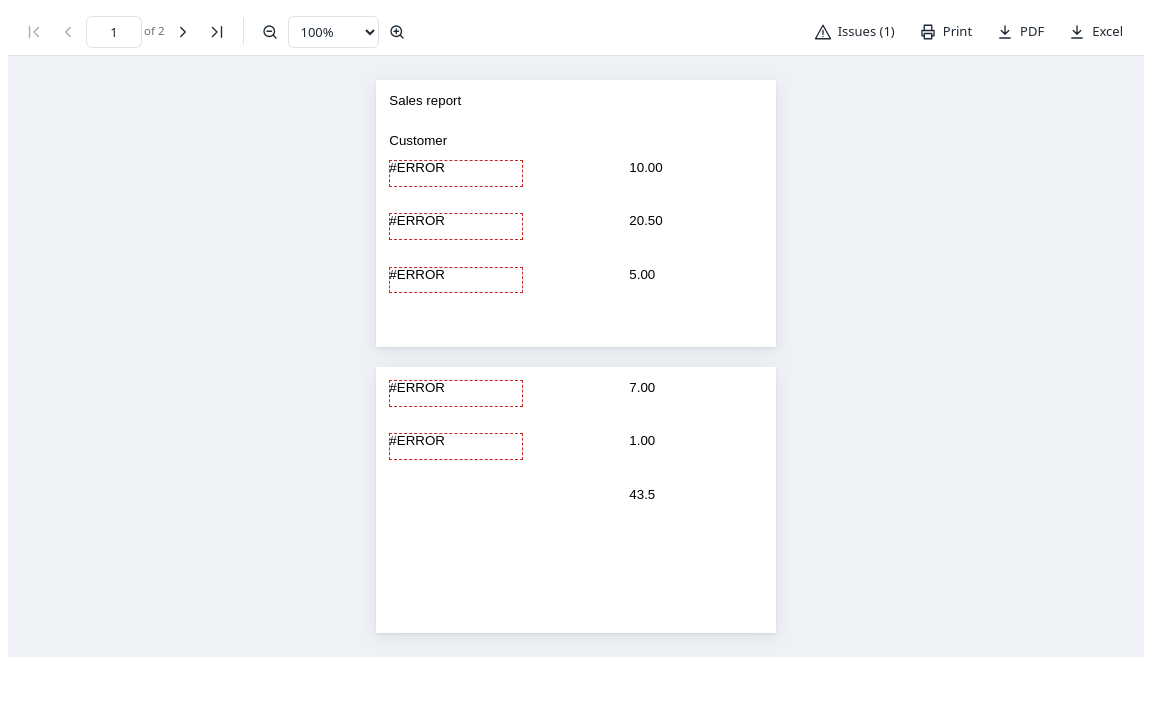
Test case: ReportViewer › lists issues in the issues panel
This screenshot has width=1152, height=720.
Click the button "Issues (1)". click: (854, 32)
box: [803,16,906,48]
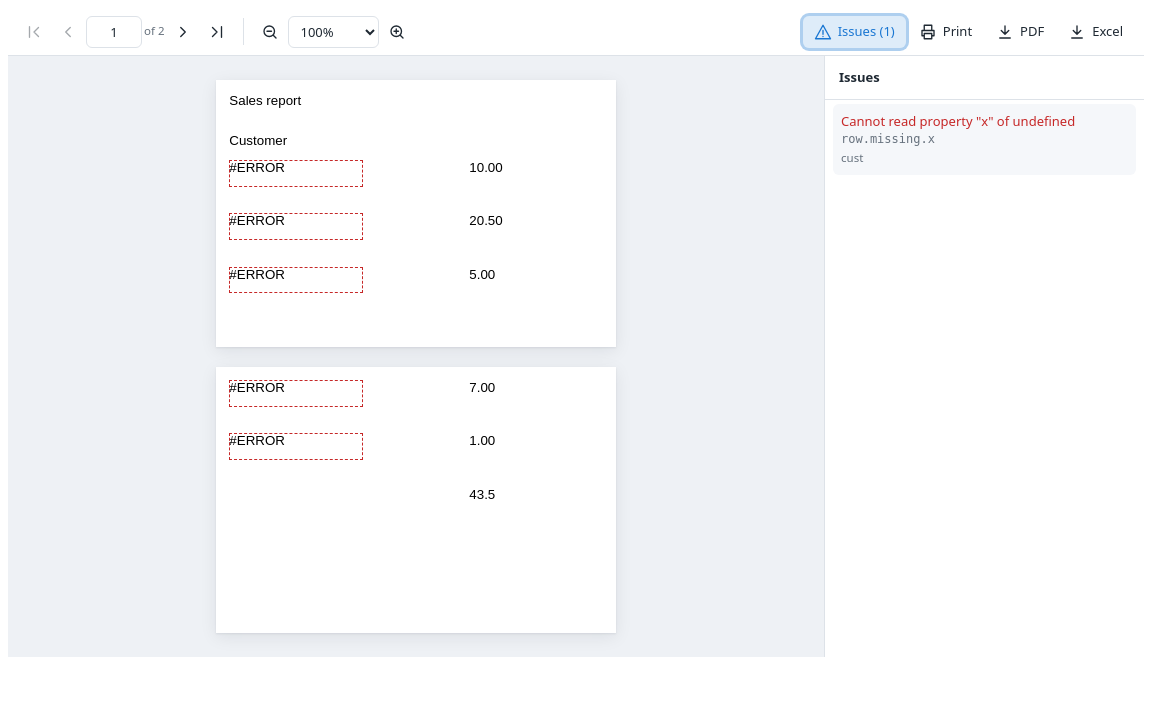
Result: the text "Cannot read property \"x\" of undefined" is shown at [841,112,1075,130]
Result: the text "row.missing.x" is shown at [841,132,935,146]
